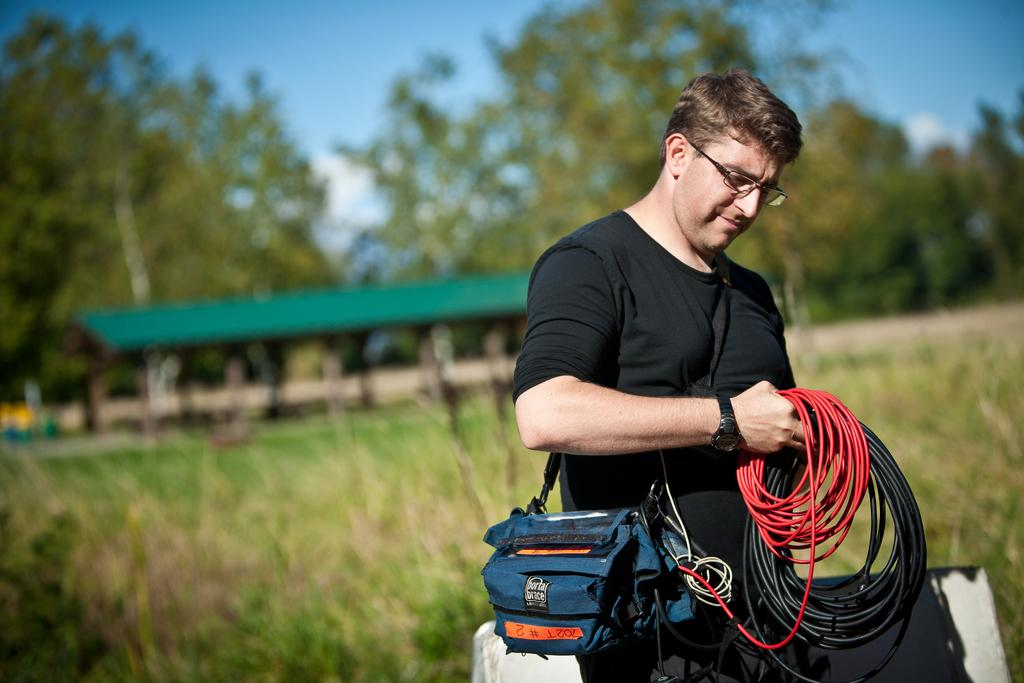Luggage-and-bags: (479, 251, 733, 661)
